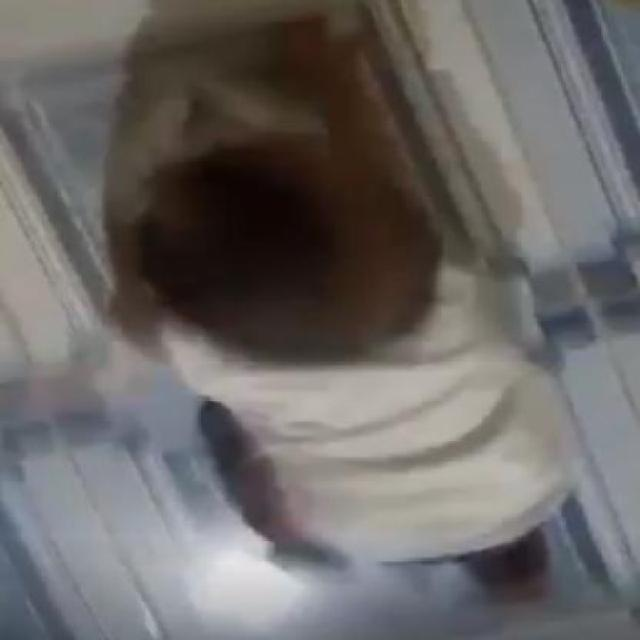baby: (108, 136, 570, 604)
